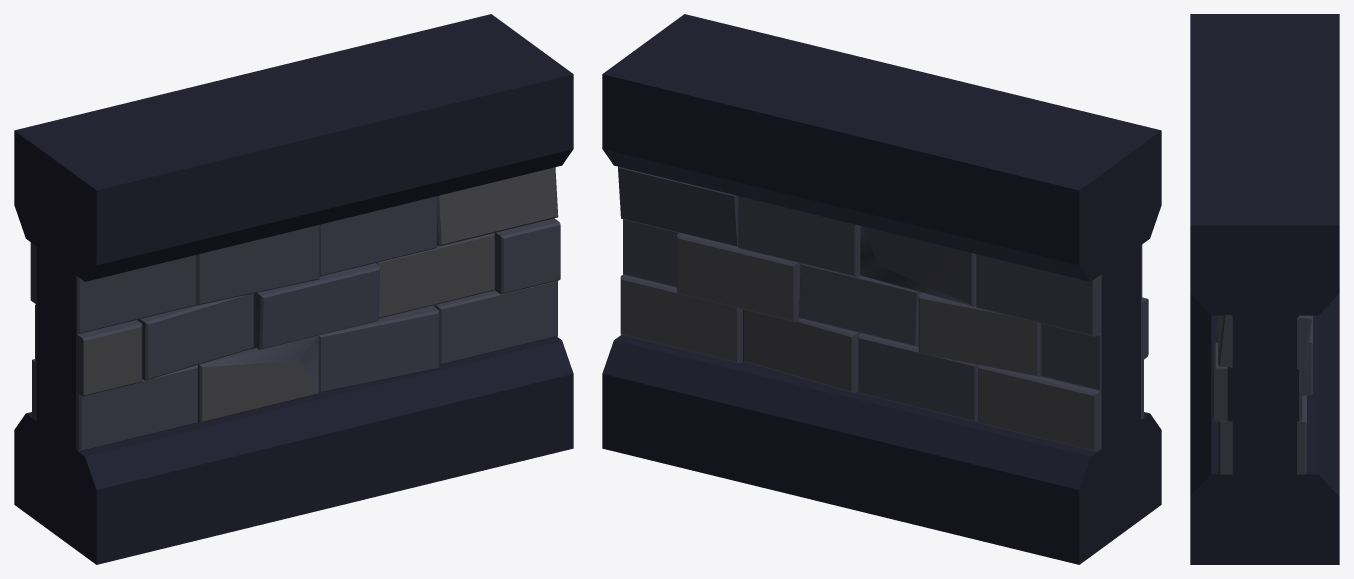
Rendered from Wall.fbx.
3 views of the same model, side by side, from view 1: azimuth 30°, elevation 25°; view 2: azimuth 150°, elevation 25°; view 3: azimuth 270°, elevation 25° (orthographic). The views are drawn at different scales.
Parts seen in each view (by area): view 1: 1-Wall; view 2: 1-Wall; view 3: 1-Wall.
Boxes of the visible parts, bbox=[...] form: 1-Wall: bbox=[14, 14, 573, 564]; 1-Wall: bbox=[602, 14, 1161, 564]; 1-Wall: bbox=[1190, 14, 1339, 564].
Size of the model in its own units: 4.01 by 1.19 by 3.
